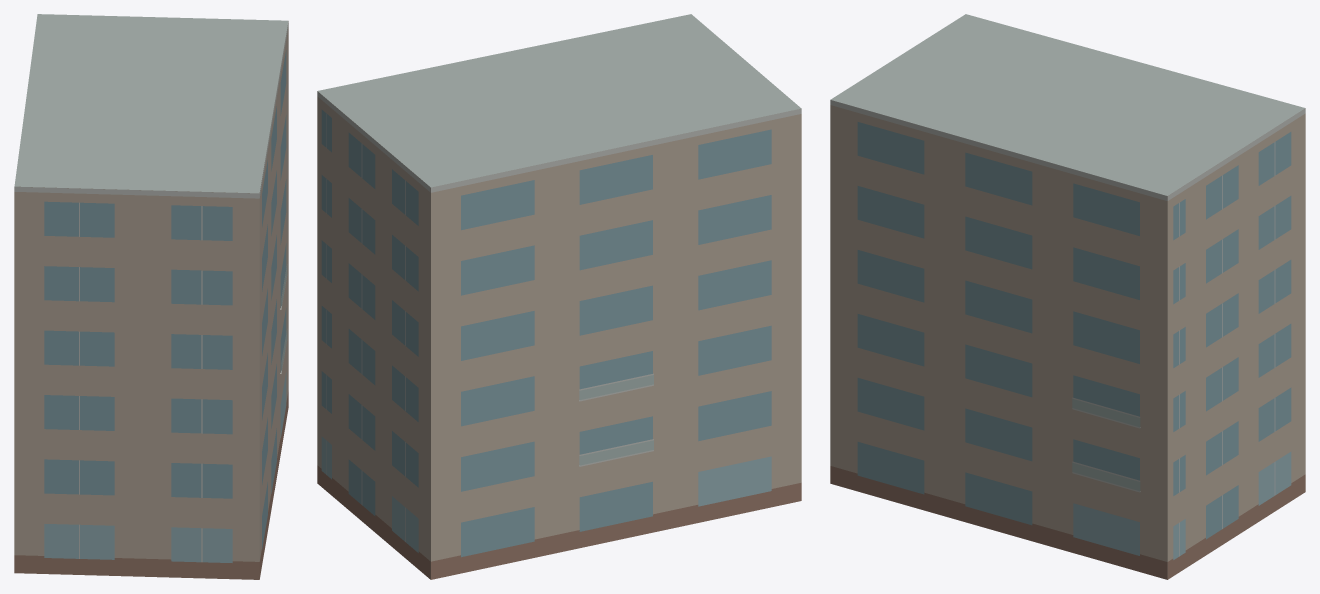
File: survey-upis-32702797.glb
The picture shows the model from 3 angles, left to right: view 1: azimuth 30°, elevation 25°; view 2: azimuth 150°, elevation 25°; view 3: azimuth 270°, elevation 25°; orthographic projection. The views are drawn at different scales.
Visible parts, largest first — view 1: survey-upis-32702797.tmp; view 2: survey-upis-32702797.tmp; view 3: survey-upis-32702797.tmp.
Boxes of the visible parts, x1,y1,x2,y2 form: survey-upis-32702797.tmp: [14, 14, 288, 579]; survey-upis-32702797.tmp: [317, 14, 801, 579]; survey-upis-32702797.tmp: [830, 14, 1305, 579].
Bounding box in the file's own units: 18.42 × 18.1 × 20.32.
